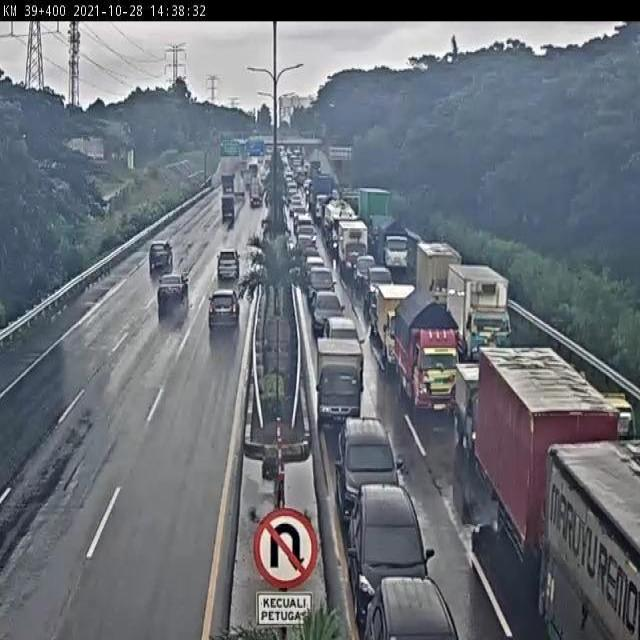ARABA: (345, 477, 435, 611), (331, 407, 401, 517), (352, 573, 466, 640), (324, 313, 367, 372), (212, 287, 243, 336), (313, 288, 345, 329), (214, 243, 246, 281), (146, 233, 174, 276), (366, 267, 394, 309), (158, 271, 190, 305), (310, 267, 336, 308), (353, 253, 380, 286)
KAMYONET: (303, 340, 376, 416), (455, 360, 482, 452)
TIR: (471, 348, 625, 543), (395, 296, 464, 415), (449, 268, 517, 357), (413, 241, 463, 311), (376, 282, 414, 358), (382, 224, 416, 280), (336, 224, 372, 272)
